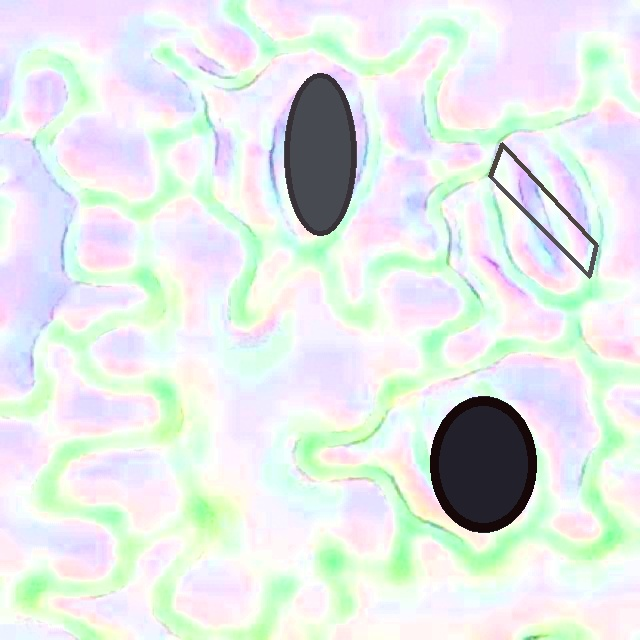close: (430, 396, 536, 532)
open: (488, 142, 597, 278), (283, 73, 356, 234)
